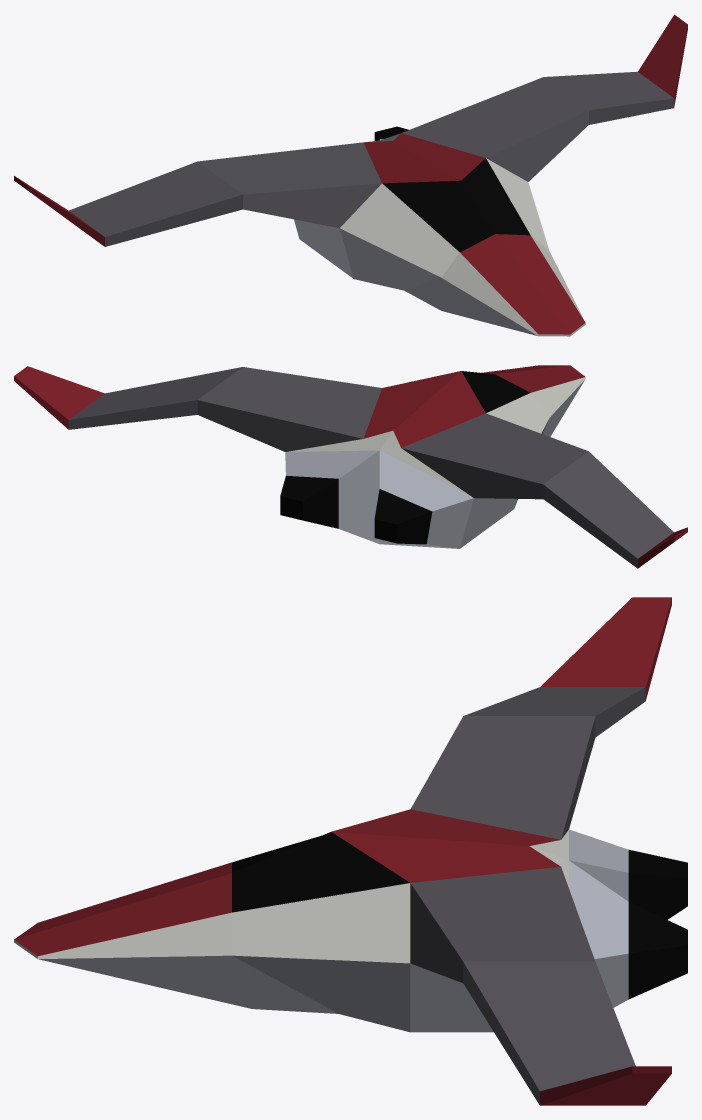
The model's file is Spaceship.glb.
3 renders of one model, top to bottom at view 1: azimuth 30°, elevation 25°; view 2: azimuth 150°, elevation 25°; view 3: azimuth 270°, elevation 25°, orthographic. The views are drawn at different scales.
Visible parts, largest first — view 1: Spaceship; view 2: Spaceship; view 3: Spaceship.
Part boxes in pixels (x1,y1,x2,y2): Spaceship: (14,14,687,336); Spaceship: (14,365,687,568); Spaceship: (14,597,687,1105).
Size of the model in its own units: 14 by 2.3 by 8.5.
